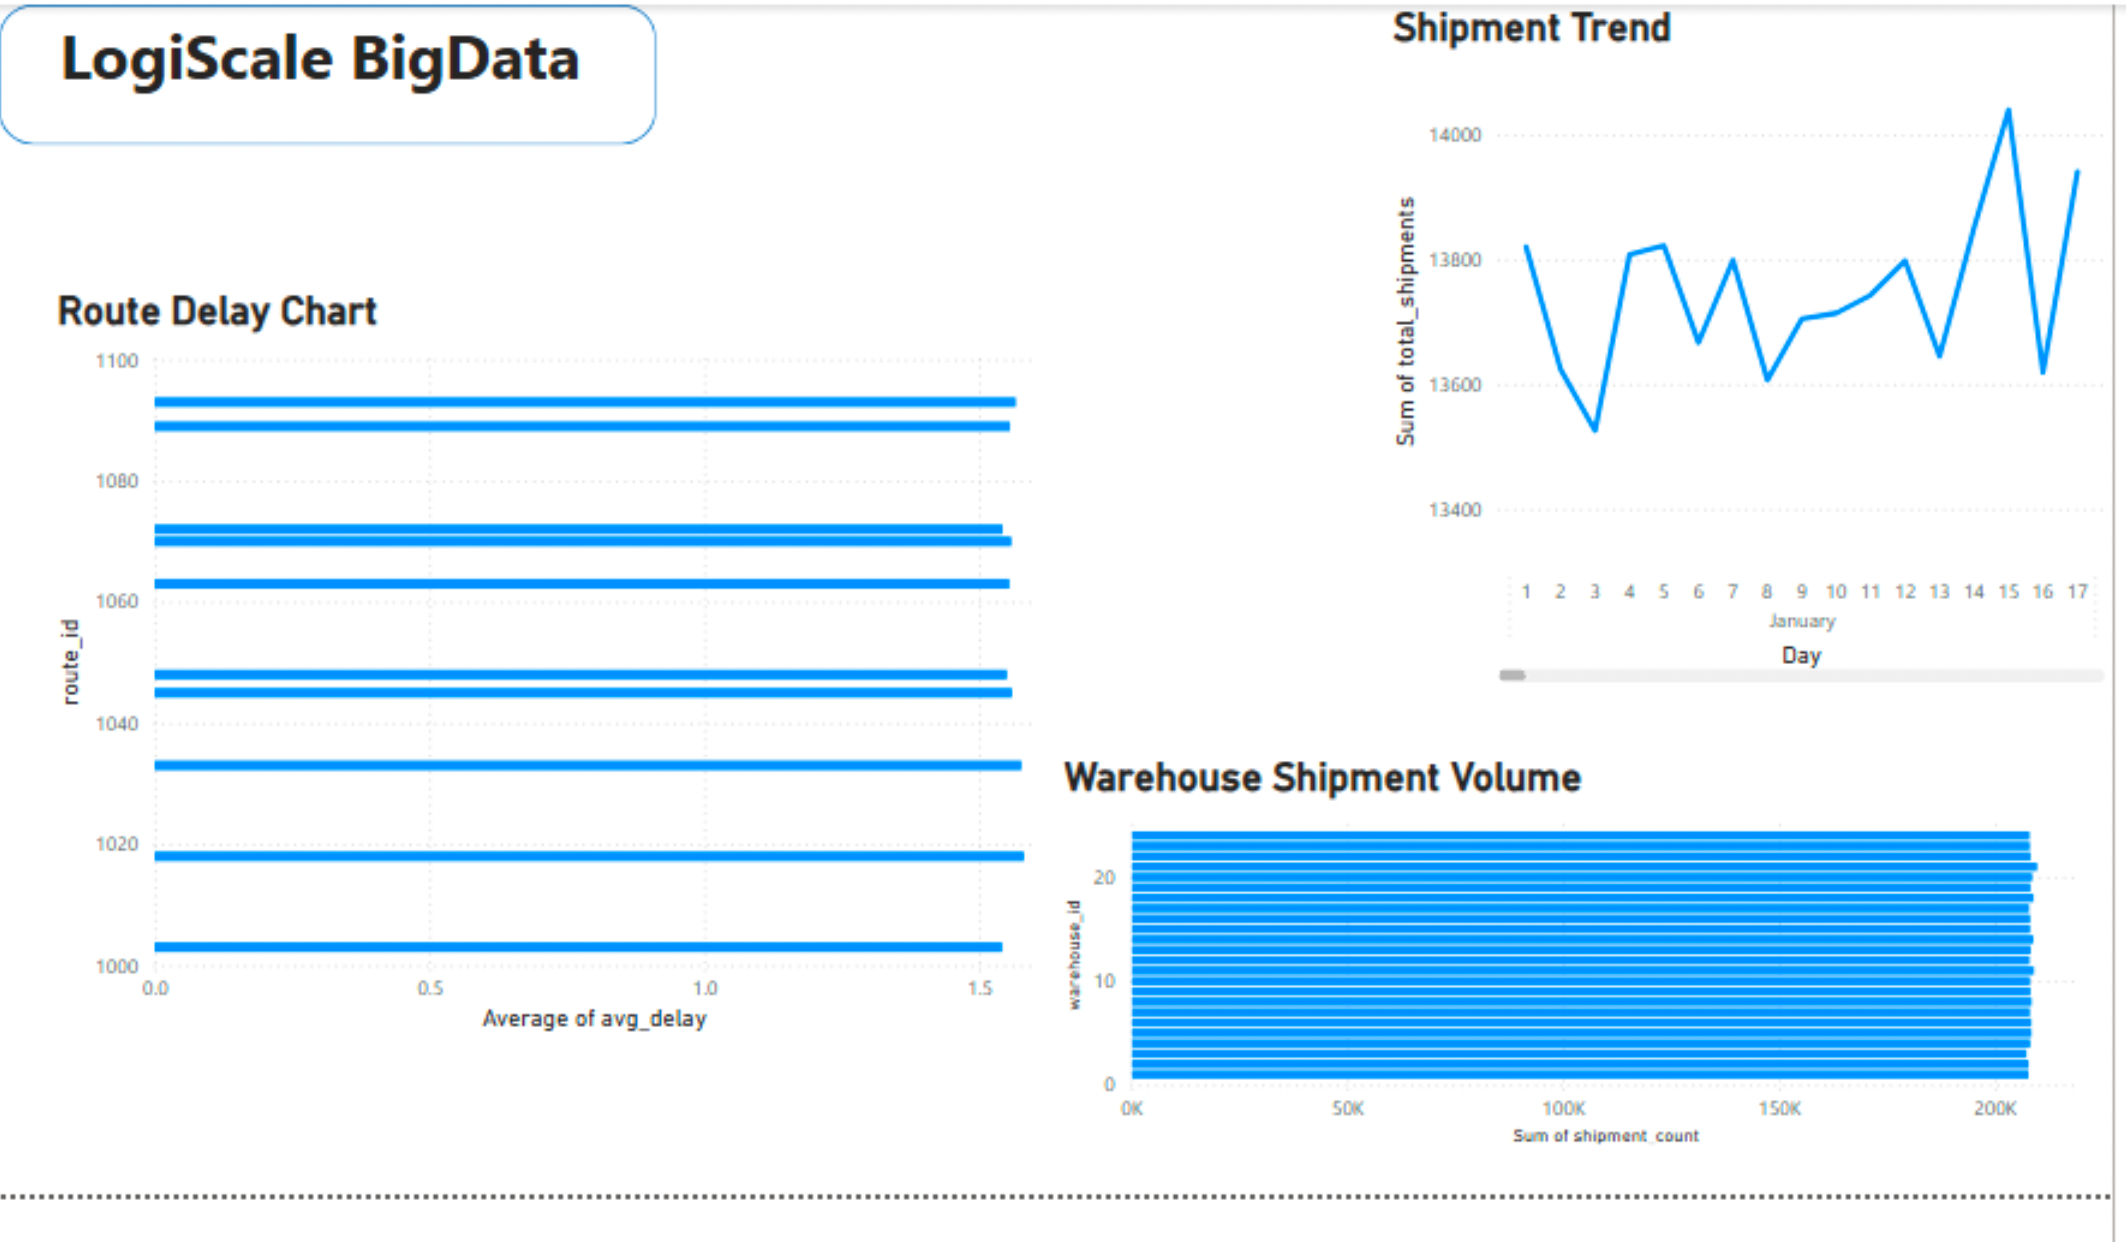

The page's visual inventory and layout, read from the dashboard file:
{"tool":"powerbi","page":{"name":"Page 1","canvas":[1280,720],"ordinal":0},"visuals":[{"type":"barChart","title":"Route Delay Chart","fields":{"Category":["route_delay_analysis.route_id"],"Y":["Avg(route_delay_analysis.avg_delay)"]},"box":[30.5,172,609.5,455],"z":0},{"type":"barChart","title":"Warehouse Shipment Volume","fields":{"Category":["warehouse_volume_analysis.warehouse_id"],"Y":["Sum(warehouse_volume_analysis.shipment_count)"]},"box":[640,453.4,640,240.7],"z":1},{"type":"lineChart","title":"Shipment Trend","fields":{"Y":["Sum(shipment_trend.total_shipments)"],"Category":["shipment_trend.shipment_date.Variation.Date Hierarchy.Month","shipment_trend.shipment_date.Variation.Date Hierarchy.Day"]},"box":[838.8,0,441.2,415],"z":2},{"type":"textbox","box":[31.4,0,368,85.4],"z":3},{"type":"shape","box":[0,0,398.4,84.9],"z":4}]}

Visuals, with their boxes on the page's 1280x720 design canvas (x1, y1, x2, y2). These are canvas units, not pixel positions in the 2126x1242 screenshot, which may show the page scaled, cropped or inside an application window:
"Route Delay Chart" barChart: region(30, 172, 640, 627)
"Warehouse Shipment Volume" barChart: region(640, 453, 1280, 694)
"Shipment Trend" lineChart: region(839, 0, 1280, 415)
textbox: region(31, 0, 399, 85)
shape: region(0, 0, 398, 85)
